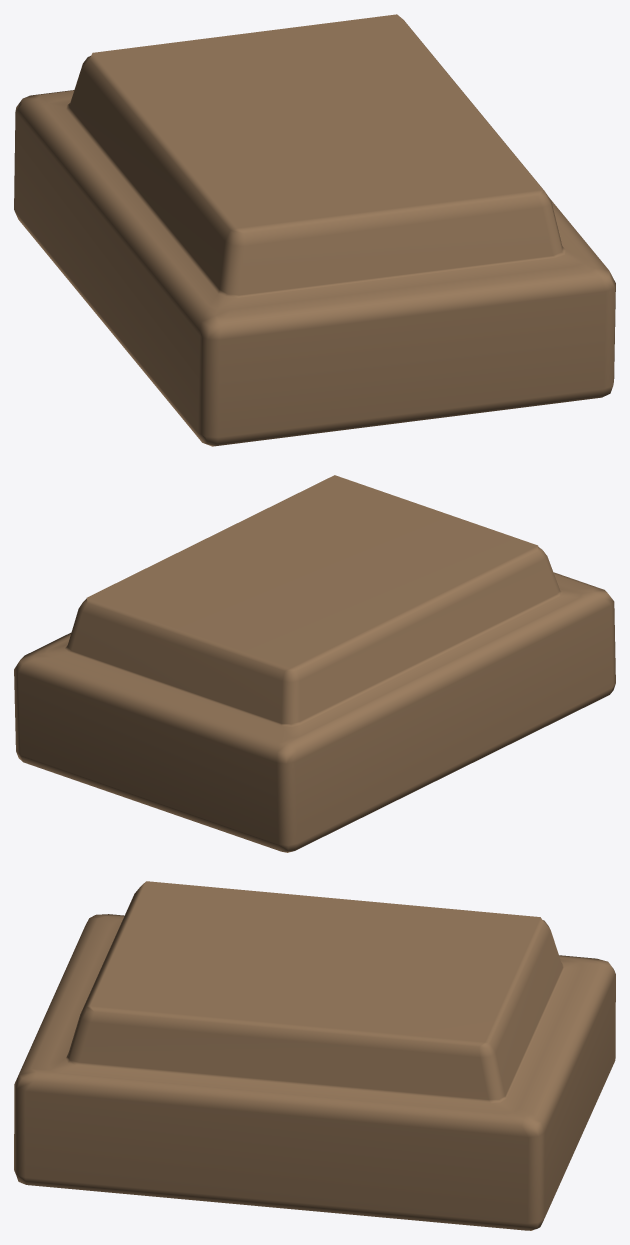
Rendered from ChocPiece_MDL.fbx.
3 renders of one model, top to bottom at view 1: azimuth 30°, elevation 25°; view 2: azimuth 150°, elevation 25°; view 3: azimuth 270°, elevation 25°, orthographic. The views are drawn at different scales.
Parts seen in each view (by area): view 1: ChocPiece_MDL; view 2: ChocPiece_MDL; view 3: ChocPiece_MDL.
Boxes of the visible parts, x1,y1,x2,y2 form: ChocPiece_MDL: (14, 14, 615, 446); ChocPiece_MDL: (14, 475, 615, 852); ChocPiece_MDL: (14, 881, 615, 1230).
Bounding box in the file's own units: 57.75 × 23.16 × 71.15.
